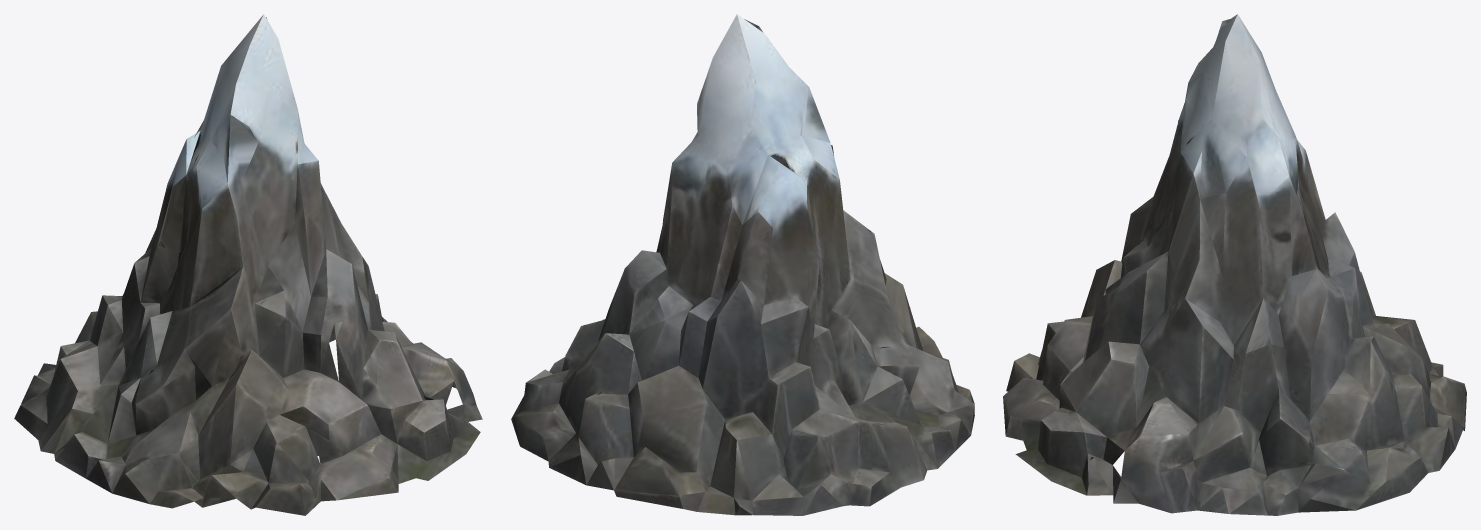
Rendered from peak.glb.
The picture shows the model from 3 angles, left to right: view 1: azimuth 30°, elevation 25°; view 2: azimuth 150°, elevation 25°; view 3: azimuth 270°, elevation 25°; orthographic projection. The views are drawn at different scales.
Parts seen in each view (by area): view 1: peak; view 2: peak; view 3: peak.
Part boxes in pixels (x1,y1,x2,y2): peak: (14,14,482,515); peak: (511,14,974,515); peak: (1003,14,1466,515).
Bounding box in the file's own units: 1.22 × 1.21 × 1.23.
1 material, 1 textured.
